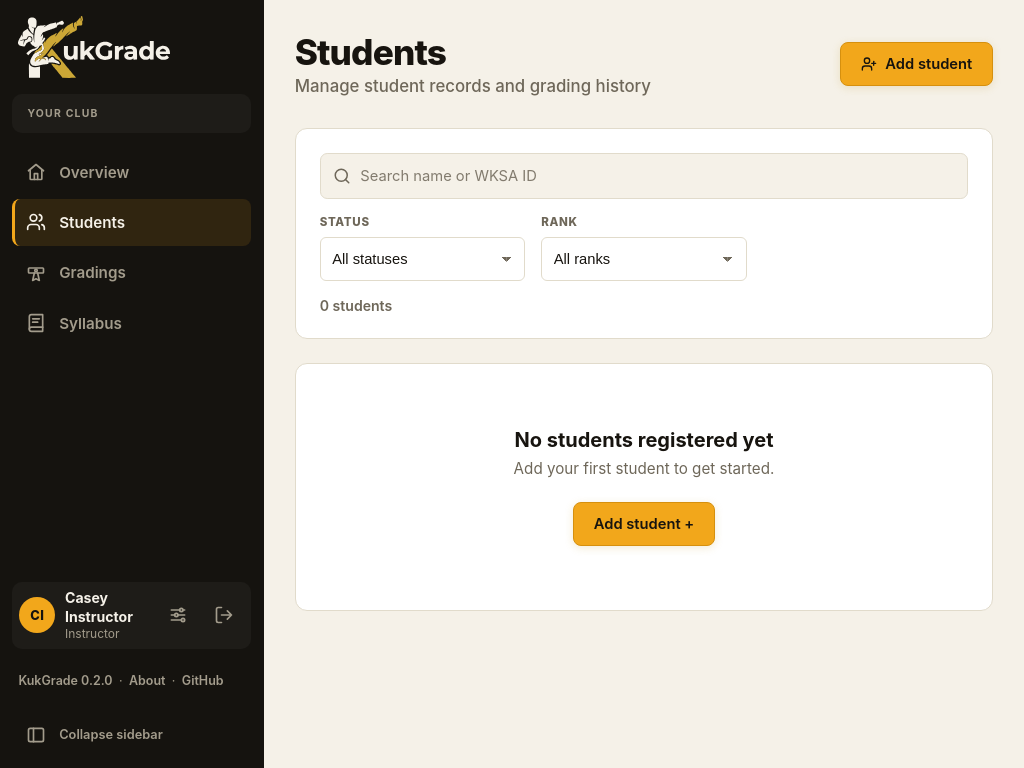
Test case: The sidebar › takes the brand to the dashboard from any page
The image size is (1024, 768).
Click the link named "KukGrade, go to the dashboard": (94, 47) [12, 16, 177, 78]
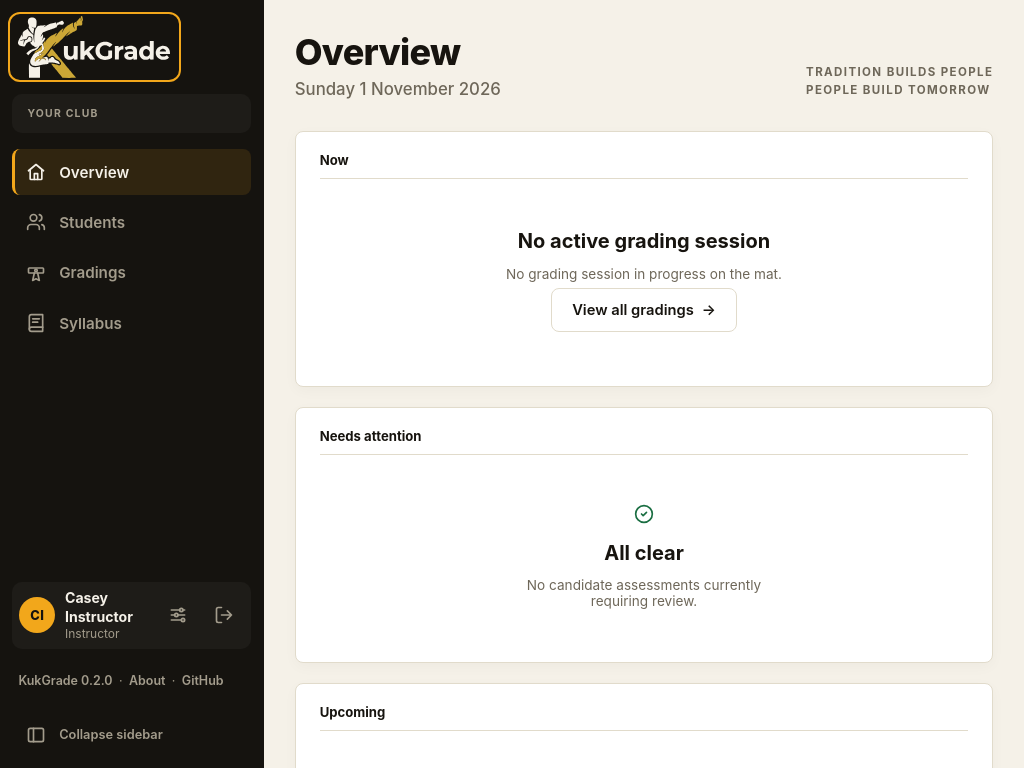
Check: the heading "Overview" is shown, box [295, 30, 460, 74]
